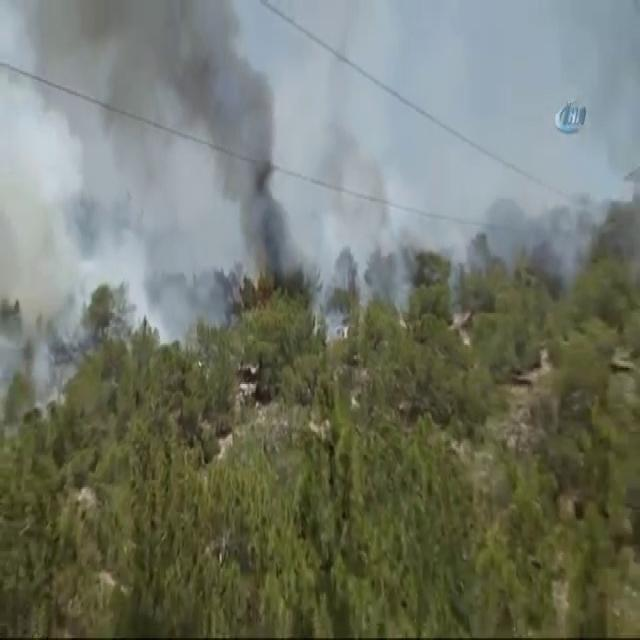Smoke: (0, 1, 344, 279), (272, 146, 444, 294), (478, 172, 640, 278)
